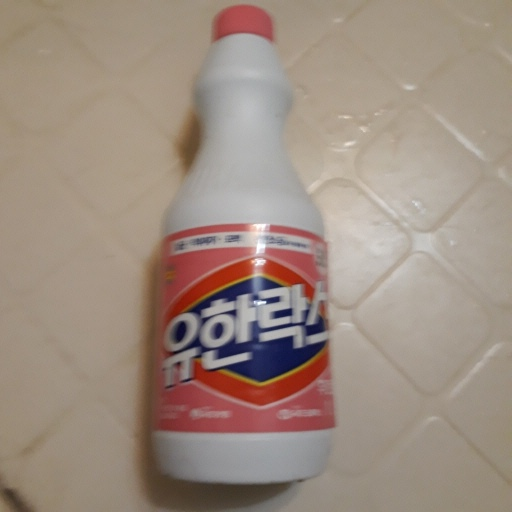Plastic_0: (145, 4, 339, 489)
